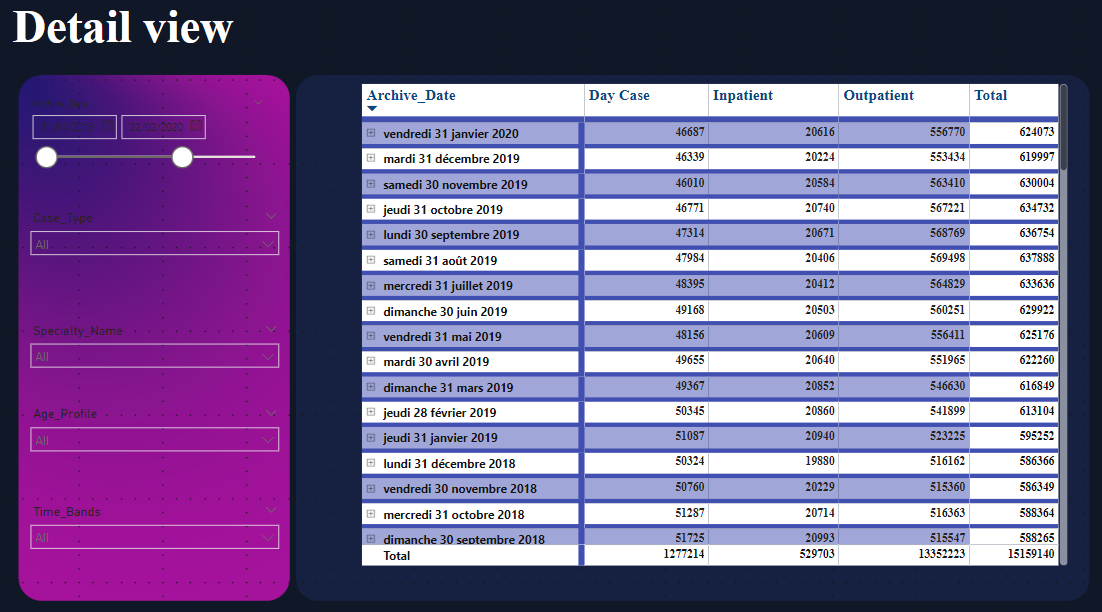

The page's visual inventory and layout, read from the dashboard file:
{"tool":"powerbi","page":{"name":"Detail ","canvas":[1280,720],"ordinal":1},"visuals":[{"type":"slicer","fields":{"Values":["All_Data.Case_Type"]},"box":[32,240,304,96],"z":0},{"type":"slicer","fields":{"Values":["All_Data.Specialty_Name"]},"box":[32,368,304,80],"z":1000},{"type":"textbox","box":[16,0,304,80],"z":2000},{"type":"slicer","fields":{"Values":["All_Data.Archive_Date"]},"box":[32,112,288,112],"z":3000},{"type":"slicer","fields":{"Values":["All_Data.Age_Profile"]},"box":[32,464,304,96],"z":4000},{"type":"slicer","fields":{"Values":["All_Data.Time_Bands"]},"box":[32,576,304,96],"z":5000},{"type":"pivotTable","fields":{"Rows":["All_Data.Archive_Date","All_Data.Specialty_Name","All_Data.Age_Profile","All_Data.Time_Bands"],"Columns":["All_Data.Case_Type"],"Values":["Sum(All_Data.Total)"]},"box":[416,96,816,560],"z":6000}]}

Visuals, with their boxes in screenshot pixels (x1, y1, x2, y2), scaled from the page's 1280x720 canvas onto the 1102x612 screenshot:
slicer - All_Data.Case_Type: (28,204,289,286)
slicer - All_Data.Specialty_Name: (28,313,289,381)
textbox: (14,0,276,68)
slicer - All_Data.Archive_Date: (28,95,276,190)
slicer - All_Data.Age_Profile: (28,394,289,476)
slicer - All_Data.Time_Bands: (28,490,289,571)
pivotTable - All_Data.Archive_Date x All_Data.Specialty_Name: (358,82,1061,558)
